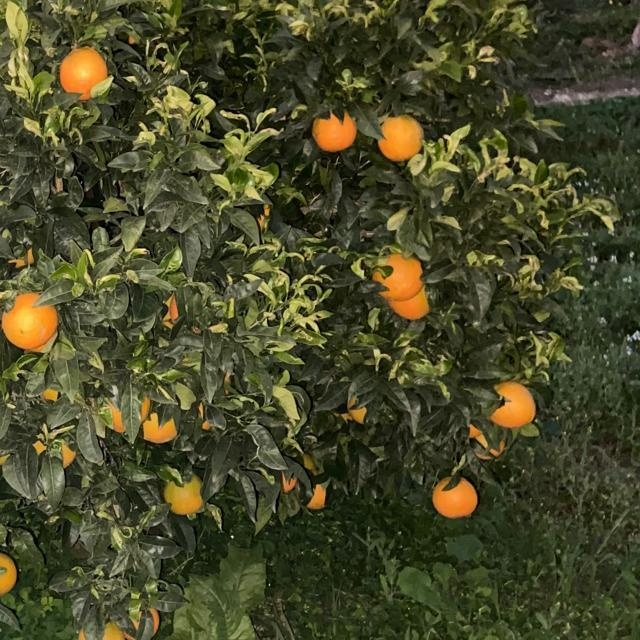orange: (1, 290, 59, 350), (57, 42, 111, 98), (376, 111, 424, 163), (487, 378, 535, 426), (373, 248, 421, 296), (432, 475, 478, 517), (312, 108, 356, 150), (108, 395, 152, 433), (32, 430, 80, 464), (163, 470, 201, 512), (122, 602, 160, 640), (269, 458, 309, 494), (386, 286, 430, 318), (141, 411, 177, 441), (79, 619, 125, 640), (476, 426, 506, 458), (0, 551, 16, 595), (162, 293, 180, 325), (345, 396, 367, 422), (306, 482, 326, 510), (466, 421, 488, 441), (0, 420, 9, 462)
